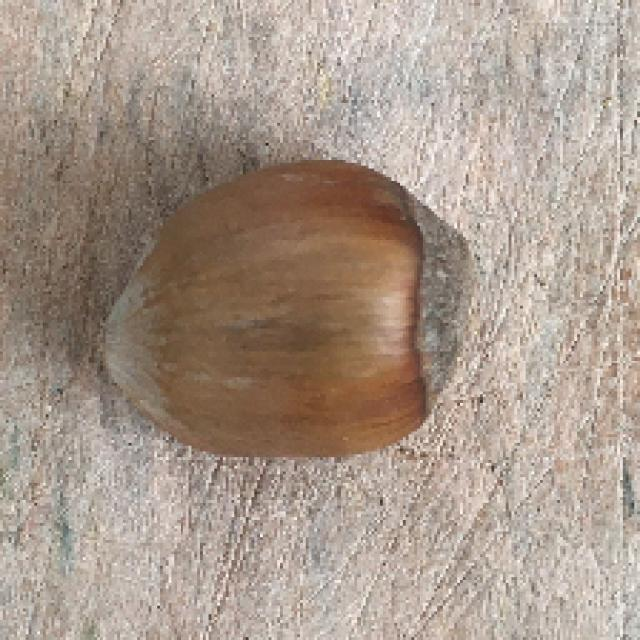qualityHazelnut: (101, 152, 470, 473)
